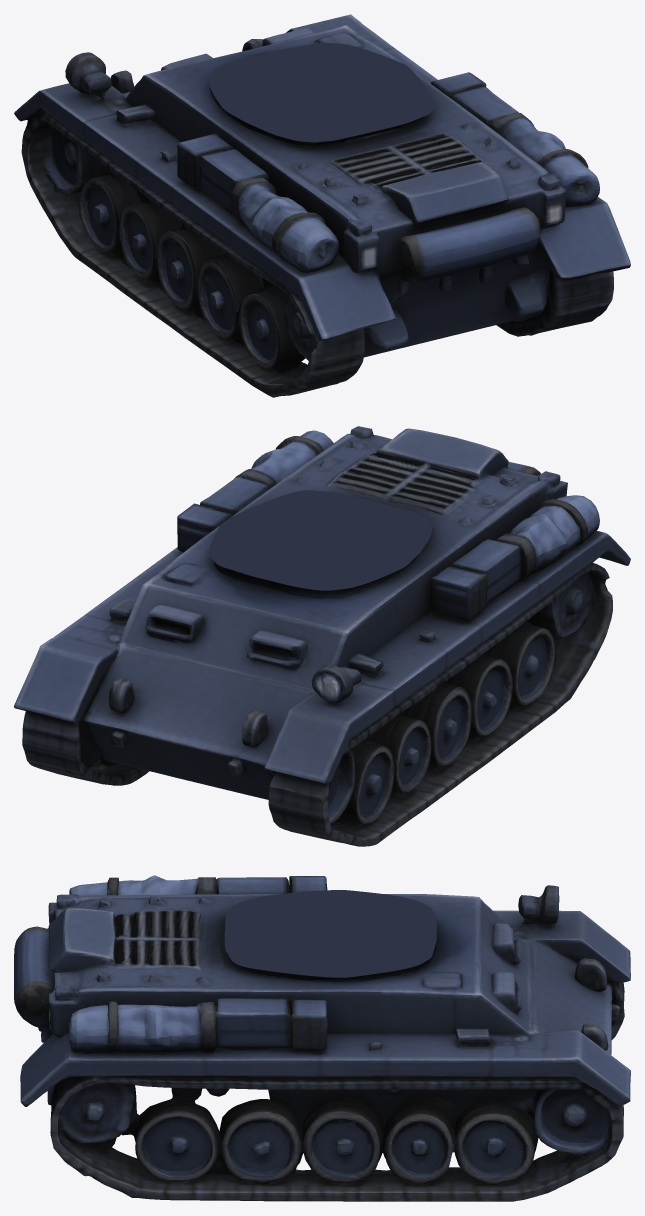
The model's file is m24_chaffee_hull_enemy.glb.
3 renders of one model, top to bottom at view 1: azimuth 30°, elevation 25°; view 2: azimuth 150°, elevation 25°; view 3: azimuth 270°, elevation 25°, orthographic.
Visible parts, largest first — view 1: rear_stowage, hull, deck_closure; view 2: hull, rear_stowage, deck_closure; view 3: hull, rear_stowage, deck_closure.
Part boxes in pixels (x1=…): rear_stowage: x1=221, y1=124, x2=630, y2=397; hull: x1=14, y1=14, x2=536, y2=379; deck_closure: x1=208, y1=42, x2=433, y2=142; hull: x1=14, y1=465, x2=558, y2=846; rear_stowage: x1=251, y1=426, x2=630, y2=721; deck_closure: x1=209, y1=490, x2=432, y2=590; hull: x1=153, y1=876, x2=630, y2=1201; rear_stowage: x1=14, y1=875, x2=216, y2=1200; deck_closure: x1=224, y1=890, x2=436, y2=977.
Bounding box in the file's own units: 0.4751 × 0.2947 × 0.8181.
2 materials, 2 textured.
